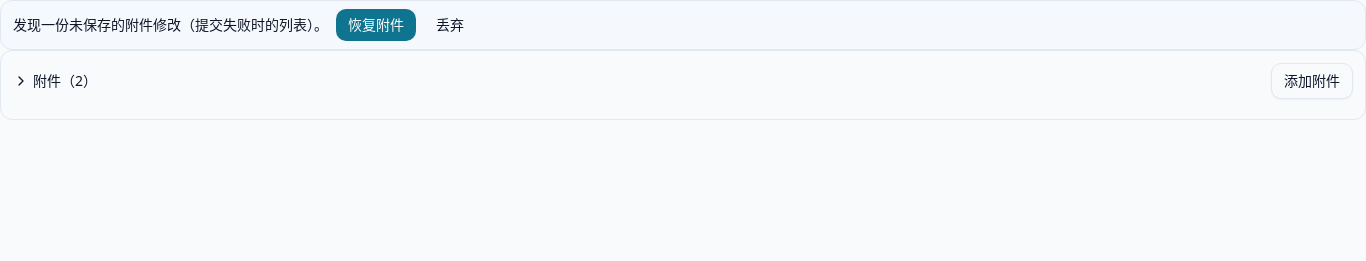
Test: AttachmentPanel：编辑冲突后的附件恢复 › 选择恢复：列表换成作者提交的那一版
Step 1. Click the button "附件（2）" → (59, 81), box [13,63,105,99]
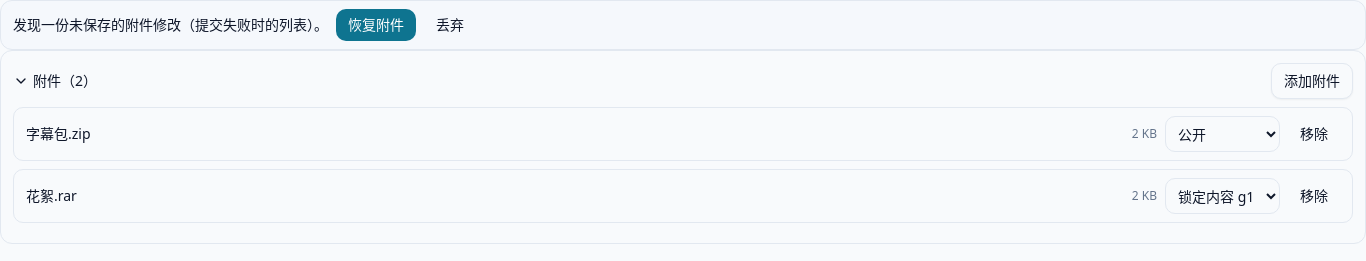
Step 2. Click the button "恢复附件" → (376, 25), box [336,9,416,41]
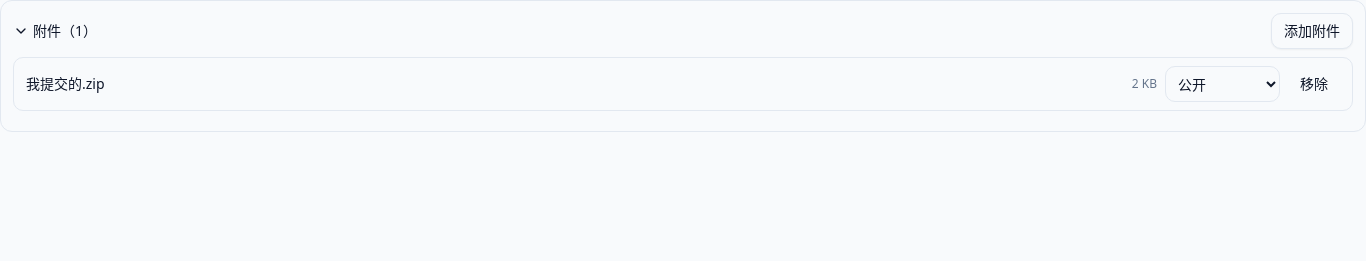
Expected: the message "发现一份未保存的附件修改（提交失败时的列表）。 恢复附件 丢弃" is gone
